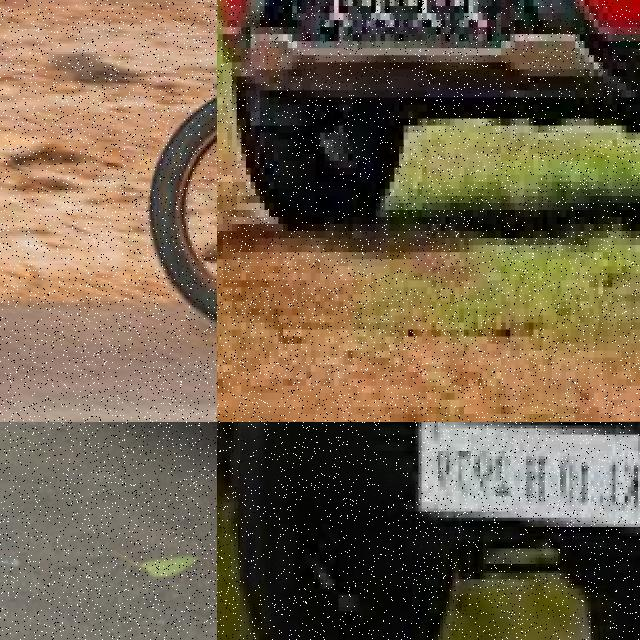bike: (133, 0, 217, 347)
car: (217, 0, 640, 259), (217, 422, 640, 640), (0, 422, 217, 533)
